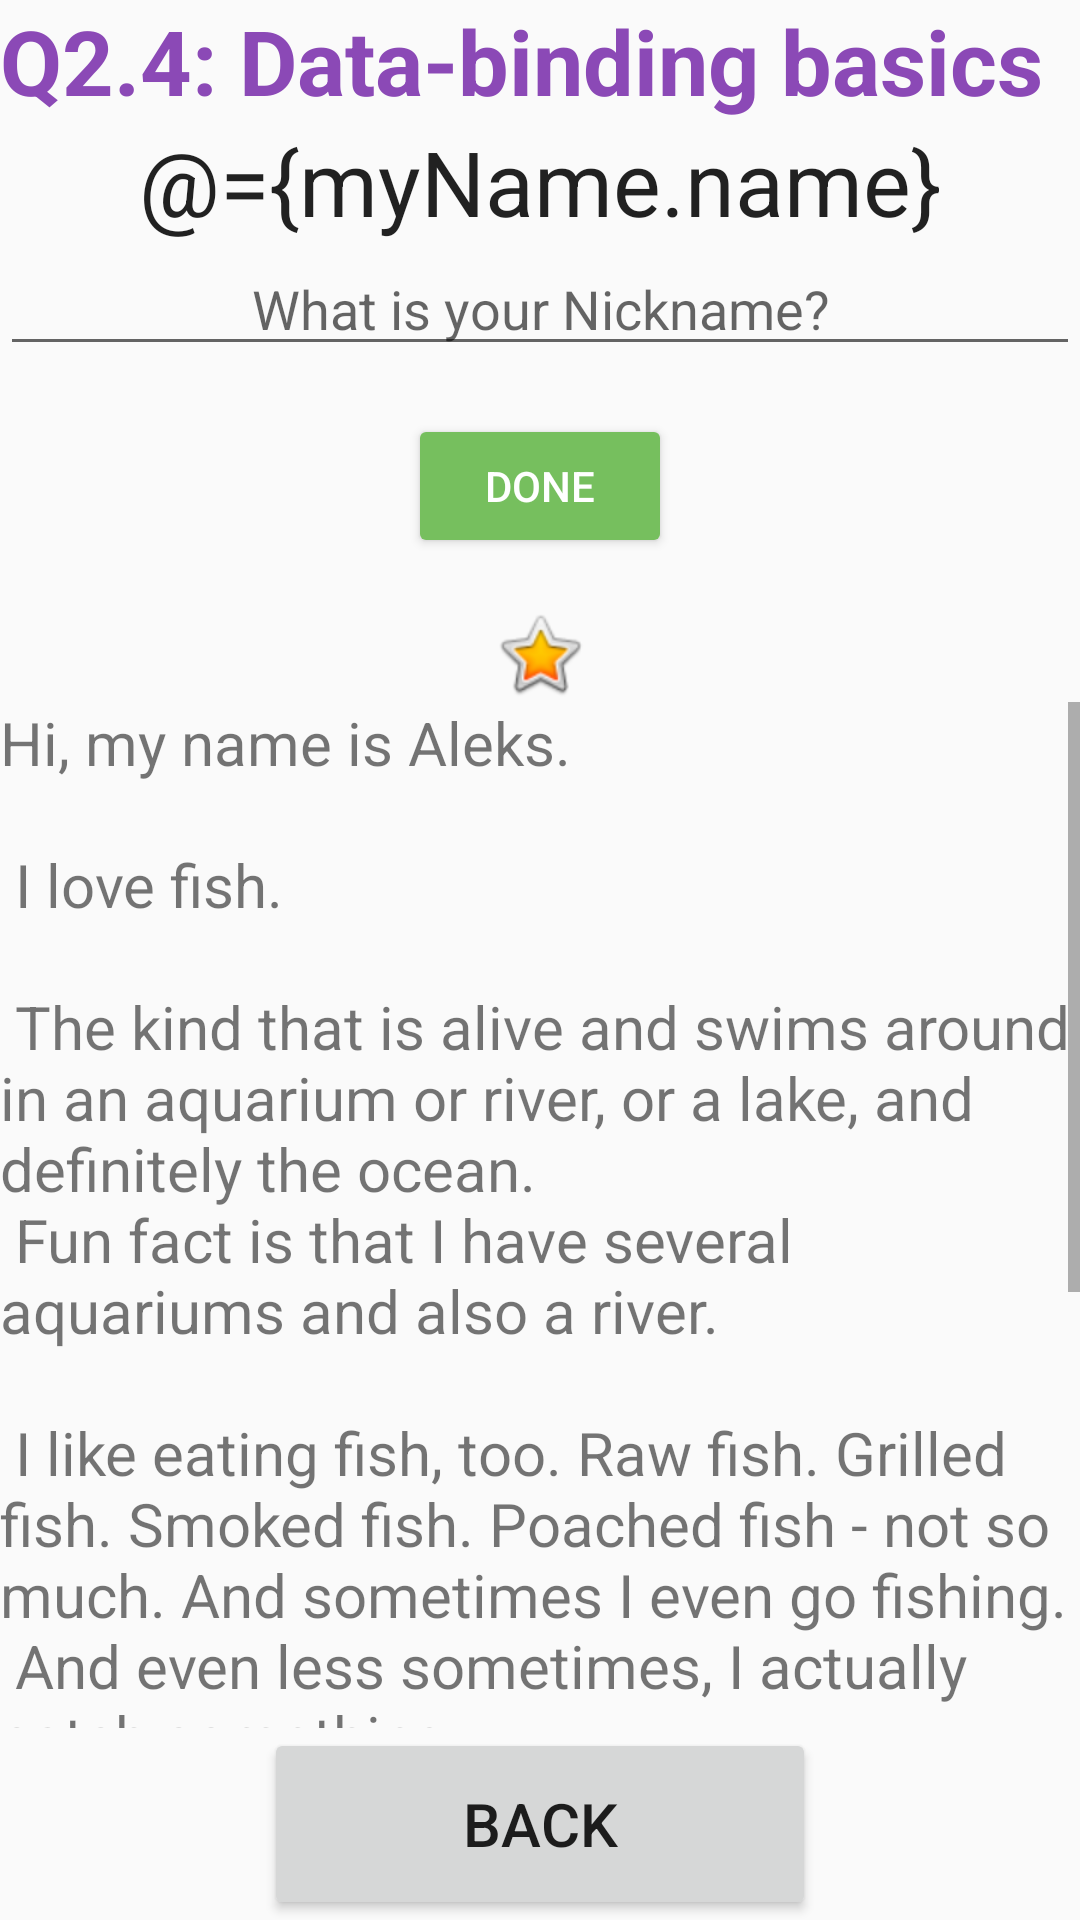

Icons on this 1080x1920 Android screen, each with the point to tap as (x=x, y=y):
Yellow star: (x=541, y=655)
